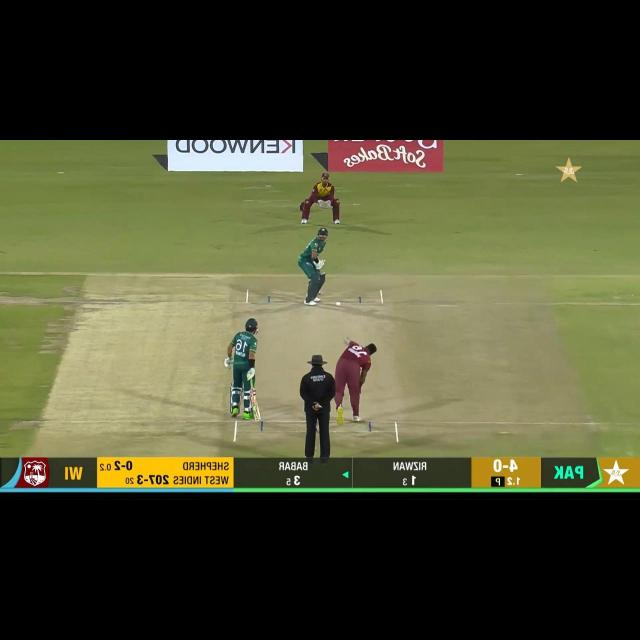bat: (248, 390, 262, 422)
toe: (252, 412, 261, 422)
